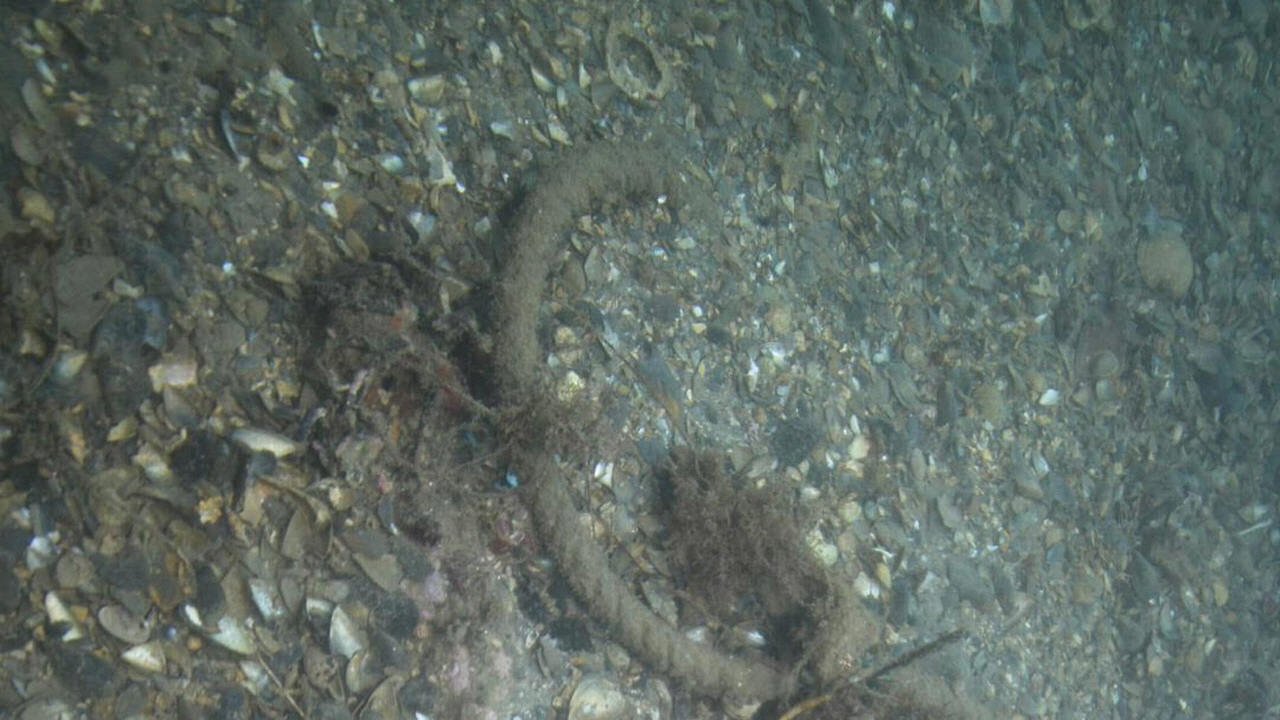rope: (487, 148, 997, 714)
